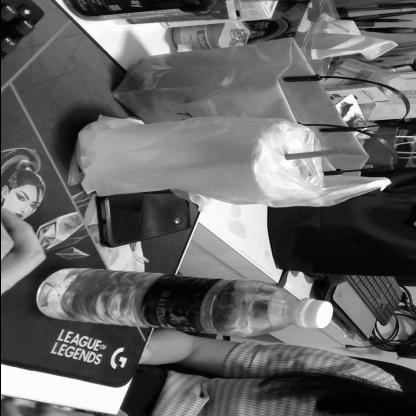plastic_bottles: (34, 266, 334, 338)
